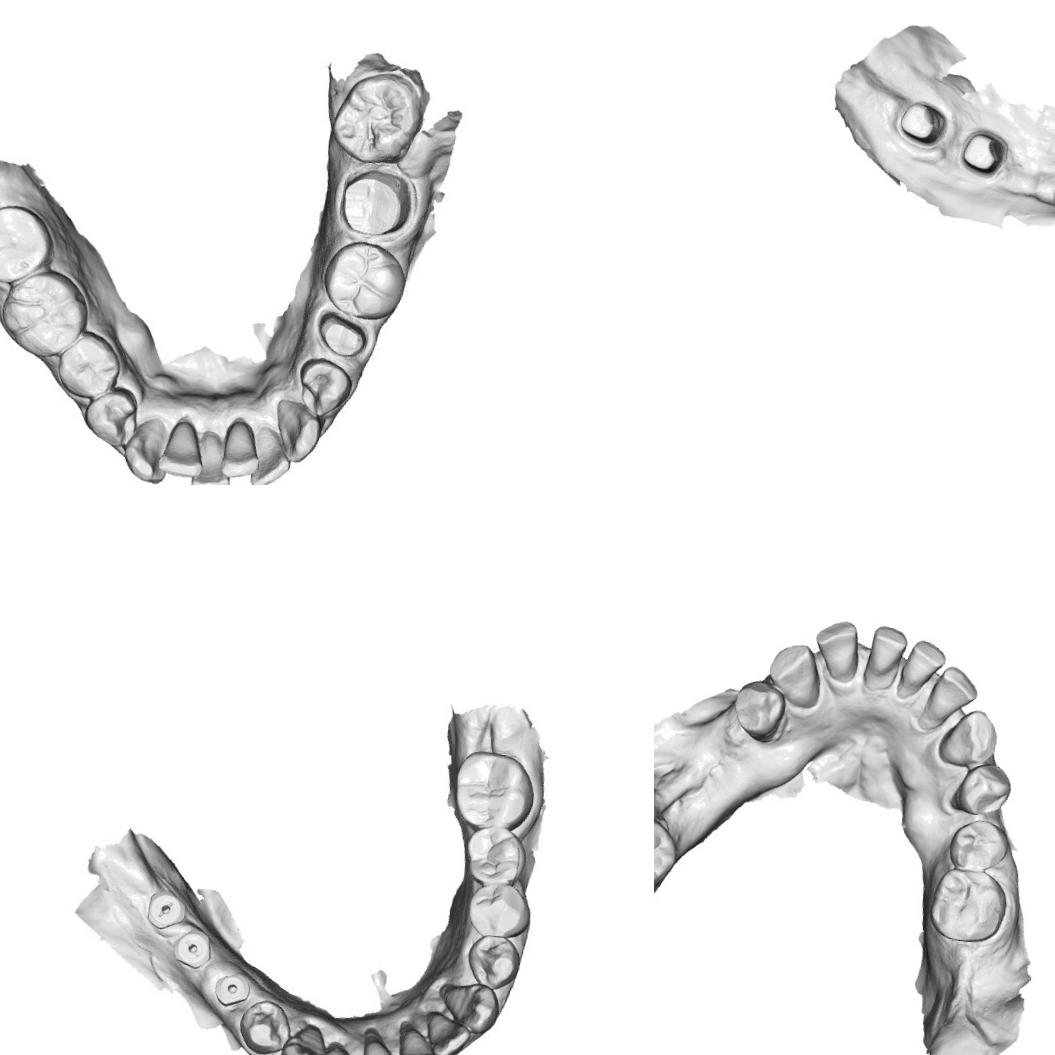abutment: (893, 98, 948, 148), (956, 127, 1008, 179)
canine: (765, 641, 826, 711), (936, 706, 1000, 771), (270, 396, 328, 464), (434, 980, 500, 1033), (122, 418, 174, 485), (276, 1021, 330, 1055)
crown: (335, 164, 417, 242), (314, 312, 370, 362)
implant: (210, 971, 252, 1010)
implant_minus: (170, 928, 214, 973), (142, 888, 186, 930)
incisor: (920, 663, 981, 729), (860, 623, 910, 697), (894, 636, 948, 704), (811, 616, 863, 684), (220, 419, 262, 480), (159, 420, 202, 476), (424, 1011, 475, 1055), (250, 431, 291, 485), (191, 433, 232, 485), (396, 1023, 445, 1055), (359, 1029, 407, 1055), (318, 1040, 370, 1055)
molar: (324, 66, 428, 171), (0, 265, 86, 360), (450, 744, 536, 835), (319, 238, 405, 318), (926, 865, 1010, 946), (0, 197, 53, 280), (654, 809, 683, 898)
premolar: (78, 381, 141, 451), (464, 824, 528, 890), (729, 677, 789, 745), (948, 758, 1014, 819), (461, 932, 524, 994), (946, 816, 1012, 874), (466, 883, 534, 939), (293, 355, 353, 417), (56, 336, 120, 393), (237, 999, 294, 1055)
